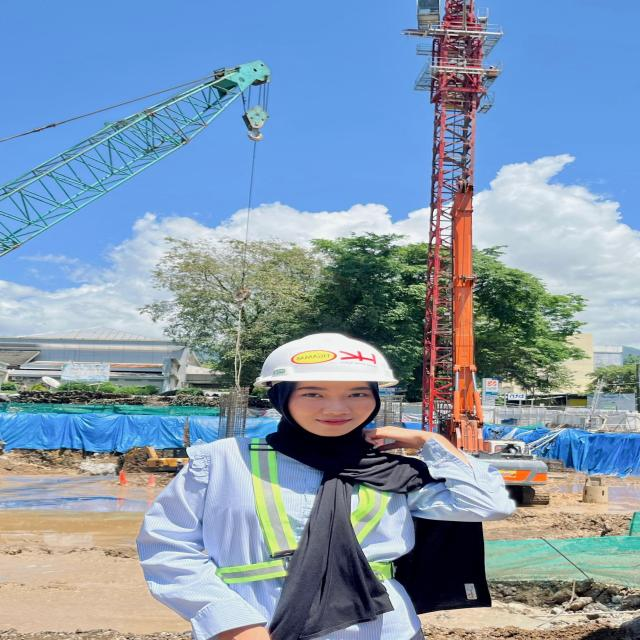safetyhelmet: (243, 330, 395, 449)
